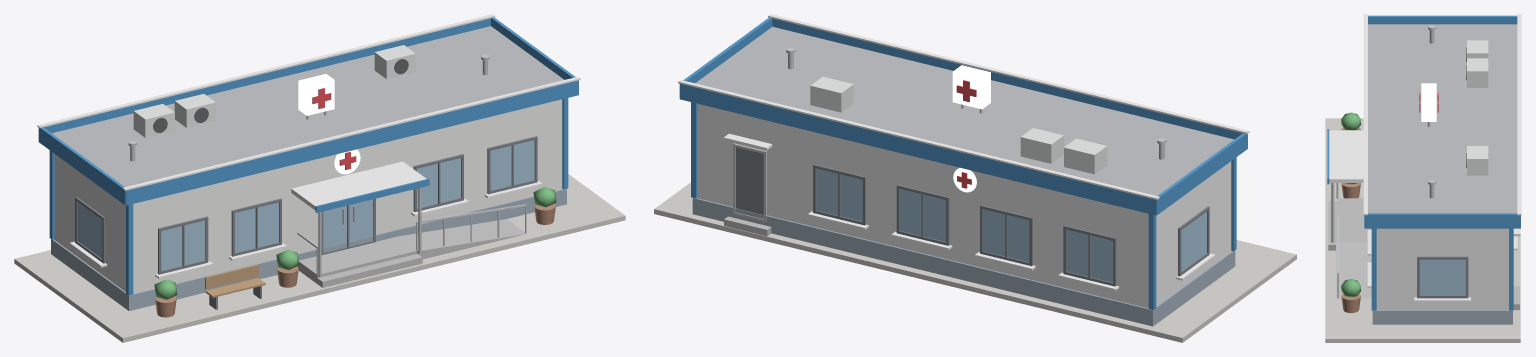
3 views of the same model, side by side, from view 1: azimuth 30°, elevation 25°; view 2: azimuth 150°, elevation 25°; view 3: azimuth 270°, elevation 25° (orthographic). The views are drawn at different scales.
Parts seen in each view (by area): view 1: base; view 2: base; view 3: base.
Part boxes in pixels (bbox=[...]): base: bbox=[14, 14, 625, 342]; base: bbox=[654, 14, 1296, 342]; base: bbox=[1325, 14, 1521, 342].
Bounding box in the file's own units: 17.1 × 5.17 × 6.44.
